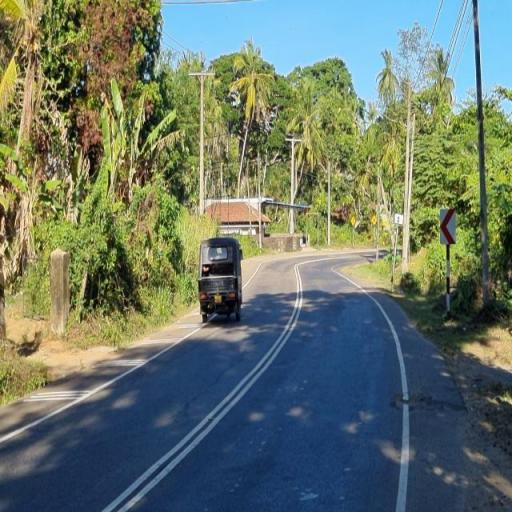double_white_line: (102, 256, 306, 512)
